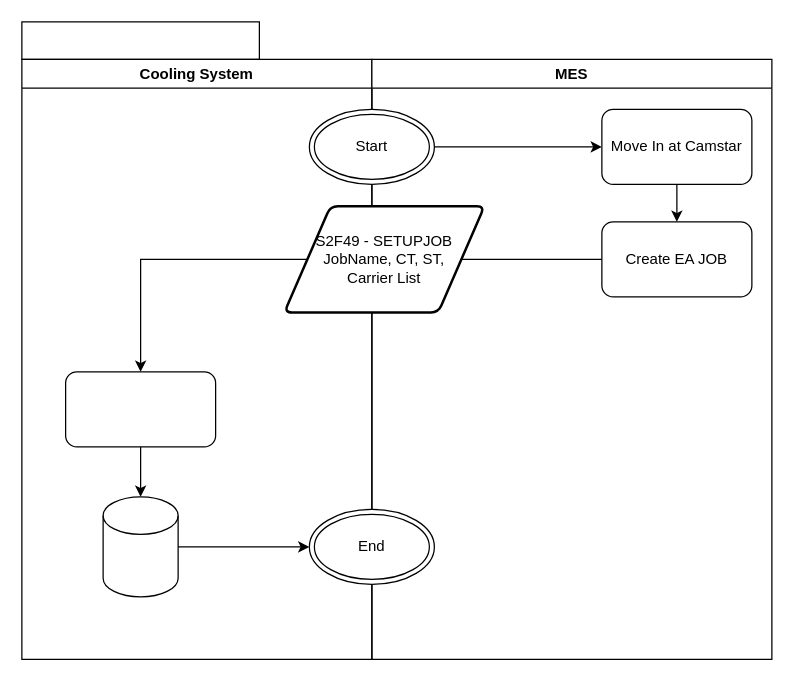
Image size: 794x681. Some labels were removed from this diagram. Each missing label, with the box of its shape:
DB: (102, 496, 178, 597)
Receive S2F49 - EA JOB: (64, 371, 216, 447)
Setup Job Process: (21, 21, 259, 59)
